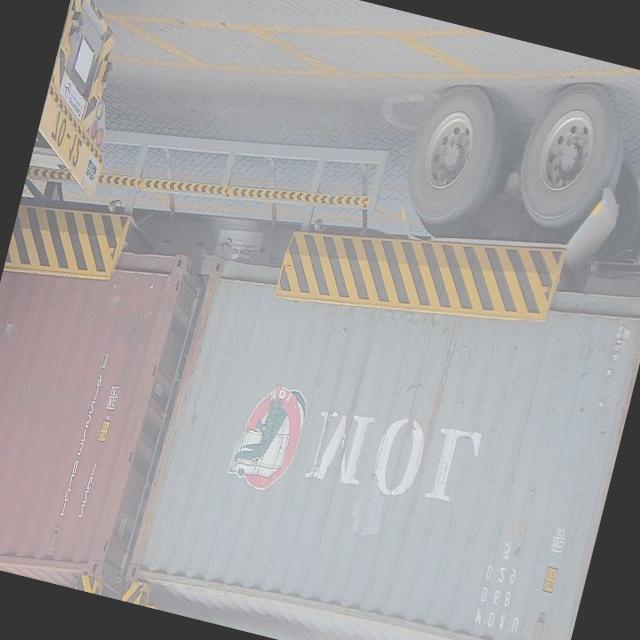rust: (118, 255, 232, 589)
